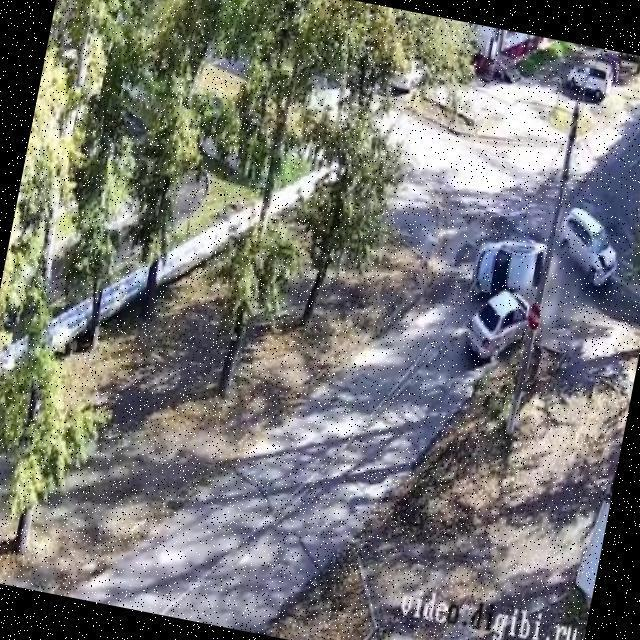accident: (470, 237, 549, 350)
